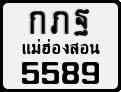letters: (49, 10, 70, 35), (74, 8, 90, 37), (21, 61, 40, 85), (41, 61, 60, 85), (61, 61, 80, 85), (81, 61, 100, 85), (28, 10, 46, 35)
province: (21, 38, 101, 55)
